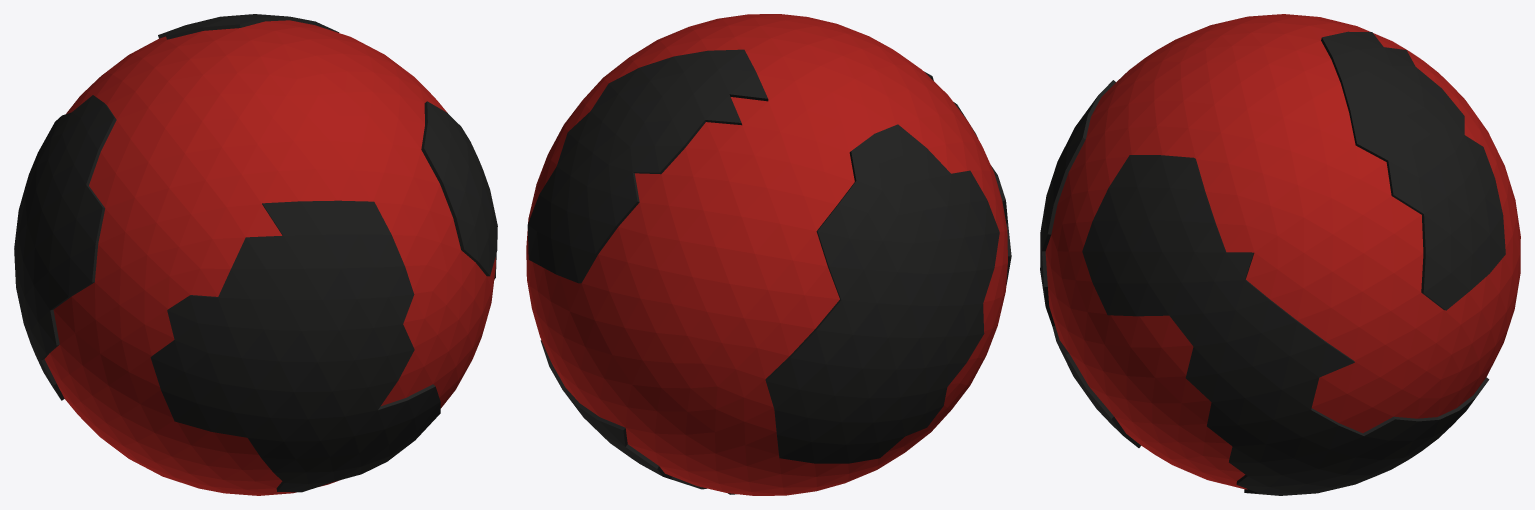
The model's file is Planet3.fbx.
The picture shows the model from 3 angles, left to right: view 1: azimuth 30°, elevation 25°; view 2: azimuth 150°, elevation 25°; view 3: azimuth 270°, elevation 25°; orthographic projection.
Parts seen in each view (by area): view 1: Planet3; view 2: Planet3; view 3: Planet3.
Part boxes in pixels (x1=…): Planet3: x1=14, y1=14, x2=497, y2=495; Planet3: x1=526, y1=14, x2=1011, y2=495; Planet3: x1=1040, y1=14, x2=1520, y2=495.
Bounding box in the file's own units: 2007 × 1994 × 1988.
Materials: 1 (1 with a texture image).
